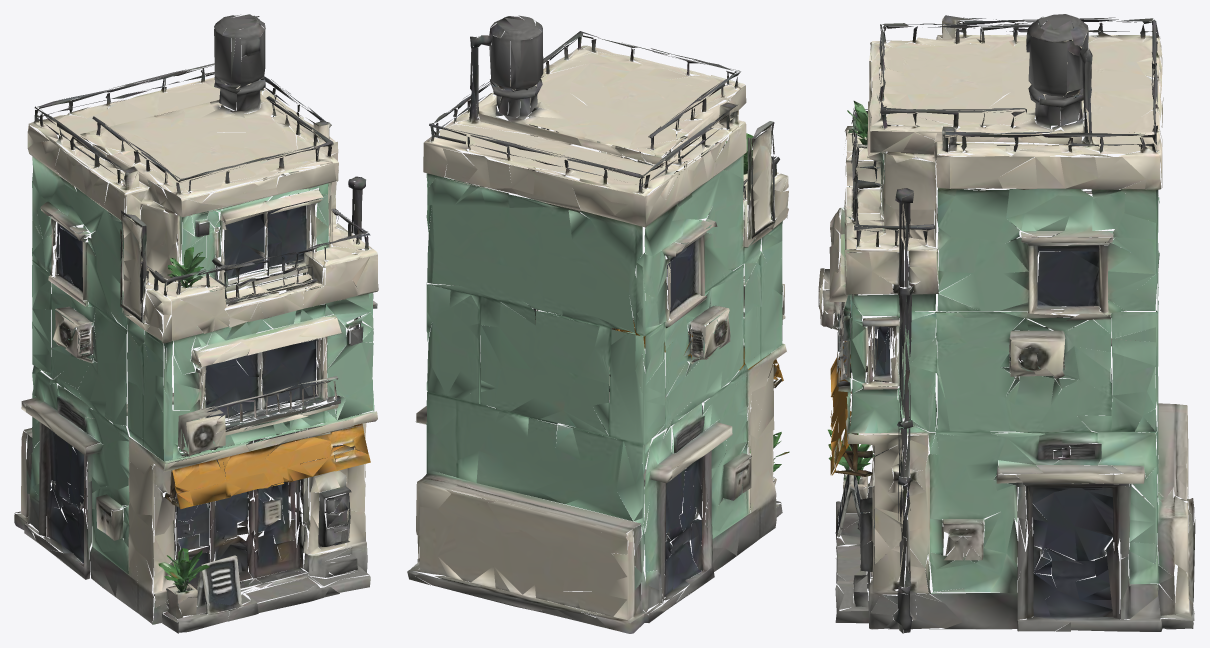
File: building20.glb
3 views of the same model, side by side, from view 1: azimuth 30°, elevation 25°; view 2: azimuth 150°, elevation 25°; view 3: azimuth 270°, elevation 25° (orthographic). The views are drawn at different scales.
Visible parts, largest first — view 1: tripo_node_4dca3dd1-75b3-4461-a0d0-4c858cef4205; view 2: tripo_node_4dca3dd1-75b3-4461-a0d0-4c858cef4205; view 3: tripo_node_4dca3dd1-75b3-4461-a0d0-4c858cef4205.
Part boxes in pixels (left/top/right/bottom): tripo_node_4dca3dd1-75b3-4461-a0d0-4c858cef4205: left=14, top=14, right=378, bottom=633; tripo_node_4dca3dd1-75b3-4461-a0d0-4c858cef4205: left=407, top=15, right=789, bottom=633; tripo_node_4dca3dd1-75b3-4461-a0d0-4c858cef4205: left=818, top=14, right=1195, bottom=633.
Bounding box in the file's own units: 0.5128 × 0.9829 × 0.5754.
Materials: 1 (1 with a texture image).
